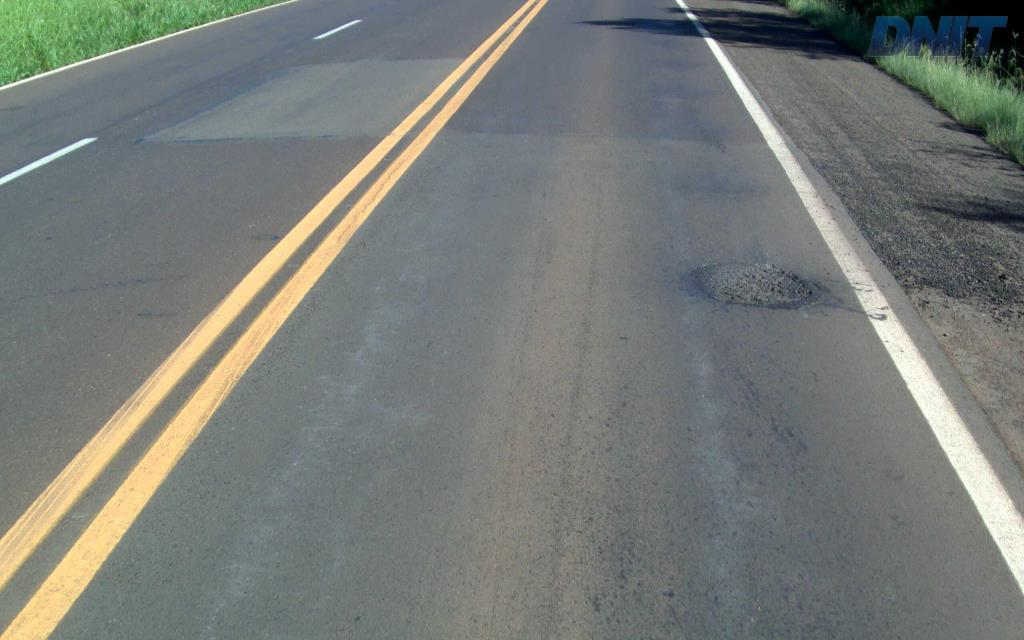crack: (768, 271, 819, 309)
pothole: (689, 254, 824, 313)
